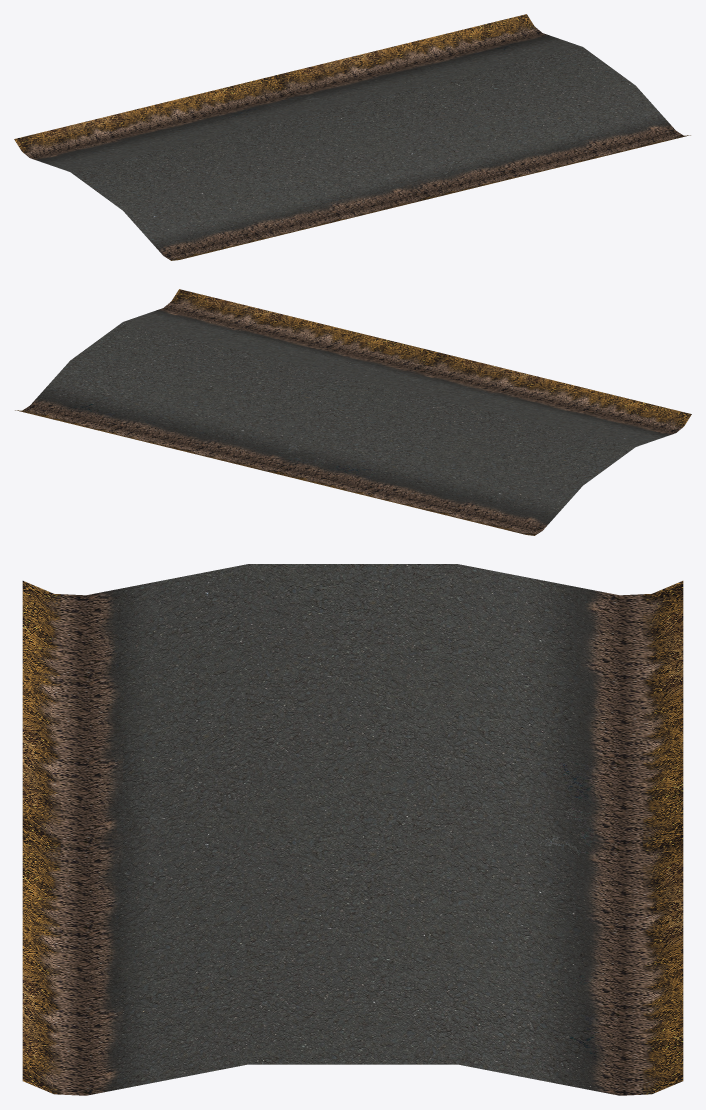
The model's file is Road.fbx.
3 views of the same model, one above another, from view 1: azimuth 30°, elevation 25°; view 2: azimuth 150°, elevation 25°; view 3: azimuth 270°, elevation 25° (orthographic). The views are drawn at different scales.
Parts seen in each view (by area): view 1: polySurface399; view 2: polySurface399; view 3: polySurface399.
Part boxes in pixels (box(x1,y1,x2,y2)): polySurface399: box(14, 14, 690, 260); polySurface399: box(15, 289, 691, 535); polySurface399: box(22, 564, 683, 1095).
Size of the model in its own units: 20.64 by 0.5992 by 11.51.
